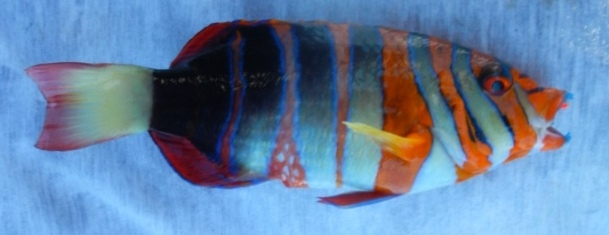fish: (23, 20, 573, 210)
